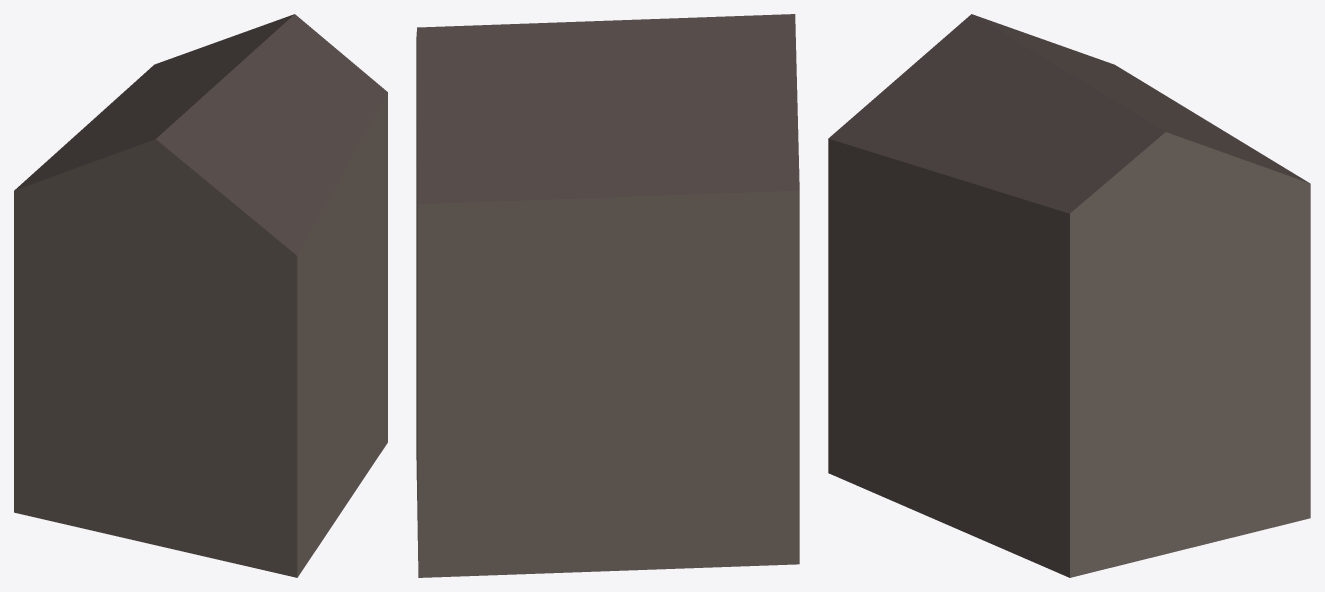
3 views of the same model, side by side, from view 1: azimuth 30°, elevation 25°; view 2: azimuth 150°, elevation 25°; view 3: azimuth 270°, elevation 25° (orthographic). The views are drawn at different scales.
Visible parts, largest first — view 1: HP-w1513026733; view 2: HP-w1513026733; view 3: HP-w1513026733.
Boxes of the visible parts, bbox=[...] form: HP-w1513026733: bbox=[14, 14, 387, 577]; HP-w1513026733: bbox=[416, 14, 799, 577]; HP-w1513026733: bbox=[828, 14, 1310, 577].
Bounding box in the file's own units: 6.87 × 7.57 × 7.84.
